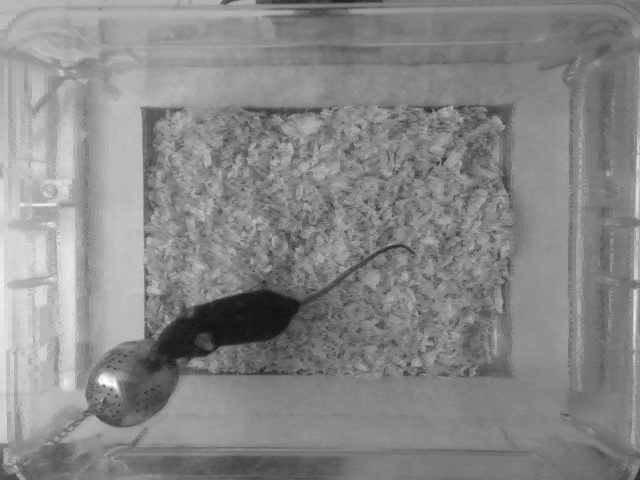mice: (147, 242, 419, 366)
